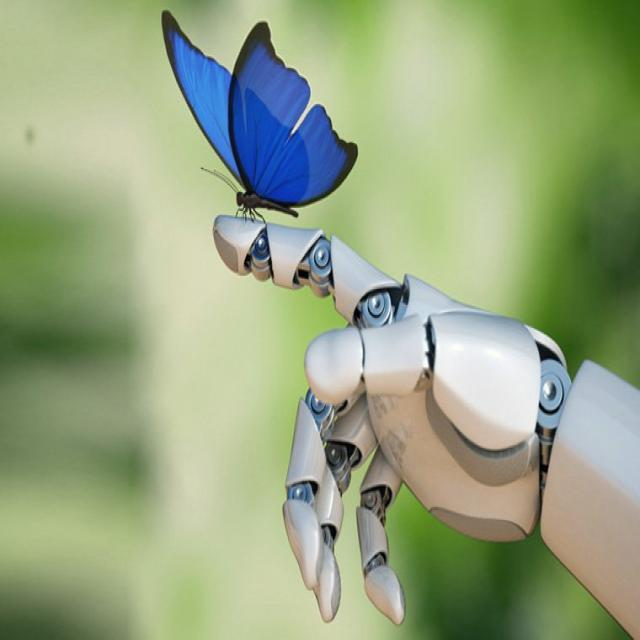butterfly: (161, 12, 357, 215)
